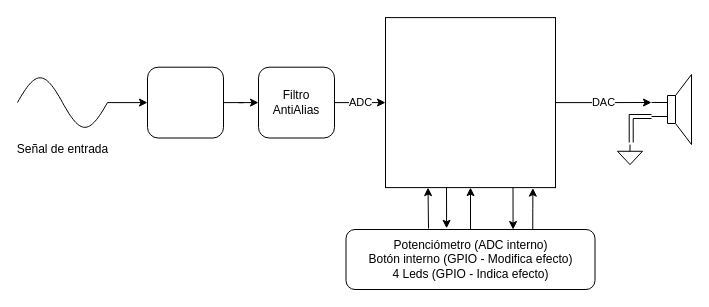
Some shapes in this 709 by 307 pixel diagram are drawn without their labels. The shapes that lost their labels are listed below. From the top down, each one's centre as x and y in pixels, then its label:
At [185,102]: "DC-Block".
At [470,102]: "MicroControlador STM32F411 (Discovery Kit)".
